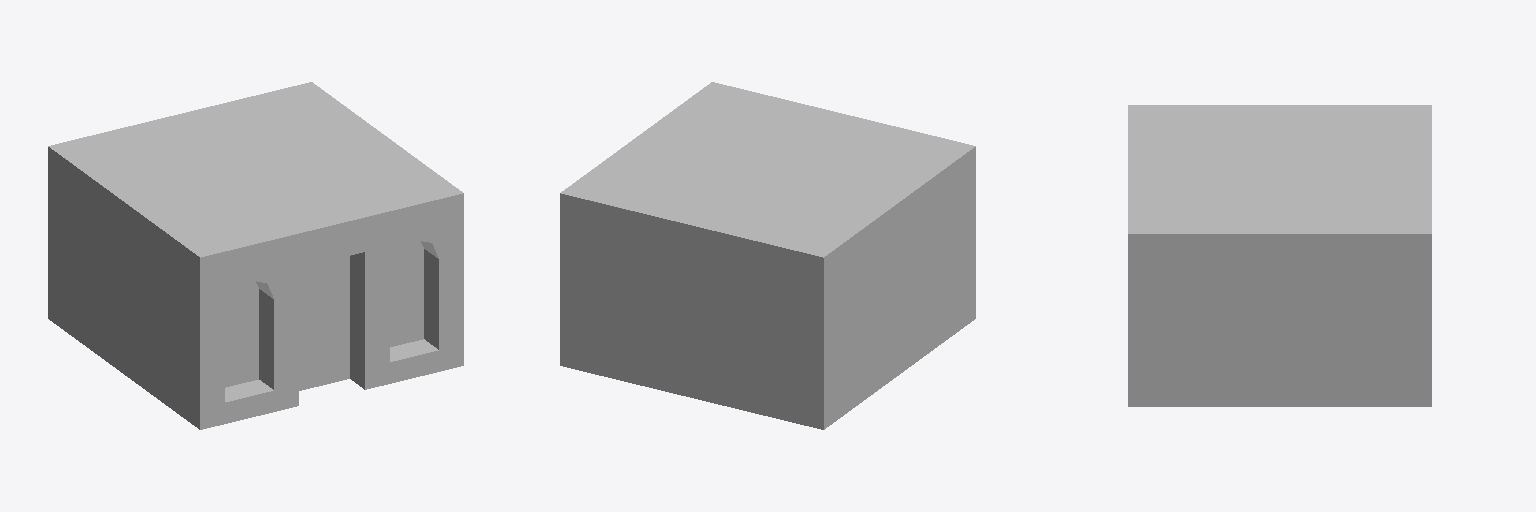
File: building-window-door-window-round.obj
3 renders of one model, left to right at view 1: azimuth 30°, elevation 25°; view 2: azimuth 150°, elevation 25°; view 3: azimuth 270°, elevation 25°, orthographic.
Parts seen in each view (by area): view 1: building-window-door-window-round; view 2: building-window-door-window-round; view 3: building-window-door-window-round.
Part boxes in pixels (x1,y1,x2,y2): building-window-door-window-round: (48,82,463,429); building-window-door-window-round: (560,82,975,429); building-window-door-window-round: (1128,105,1431,406).
Bounding box in the file's own units: 1 × 0.625 × 1.